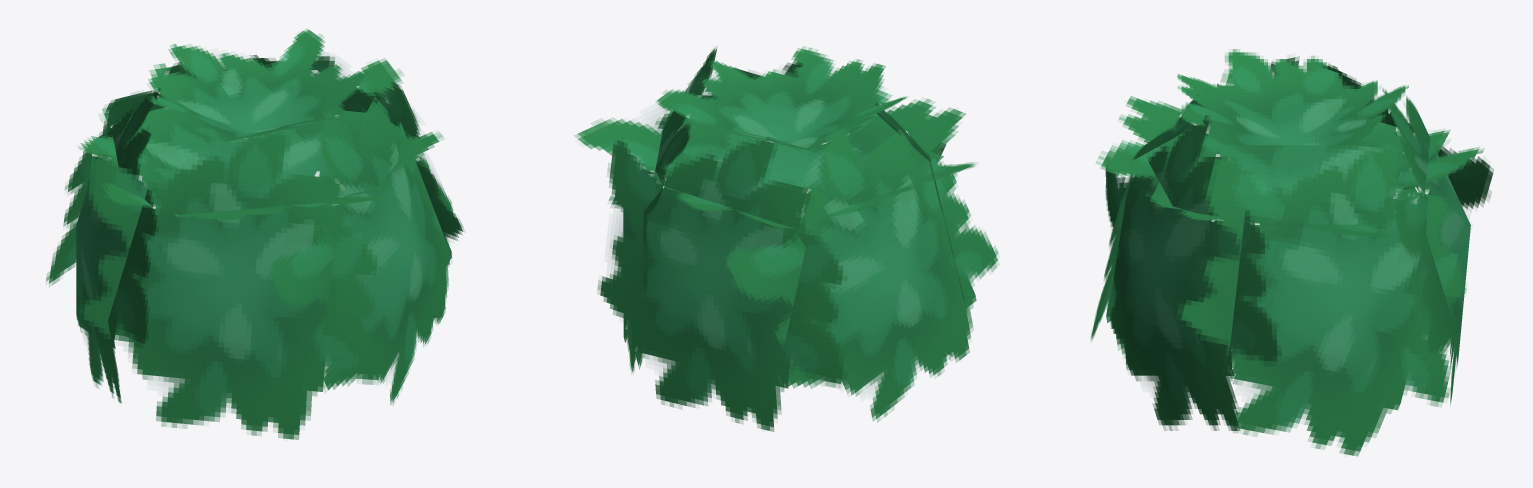
File: bush.glb
3 views of the same model, side by side, from view 1: azimuth 30°, elevation 25°; view 2: azimuth 150°, elevation 25°; view 3: azimuth 270°, elevation 25° (orthographic). The views are drawn at different scales.
Parts seen in each view (by area): view 1: bush; view 2: bush; view 3: bush.
Boxes of the visible parts, left/top/right/bottom form: bush: left=46, top=28, right=464, bottom=439; bush: left=574, top=46, right=998, bottom=431; bush: left=1090, top=49, right=1493, bottom=456.
Bounding box in the file's own units: 3.06 × 2.53 × 2.82.
1 material, 1 textured.
